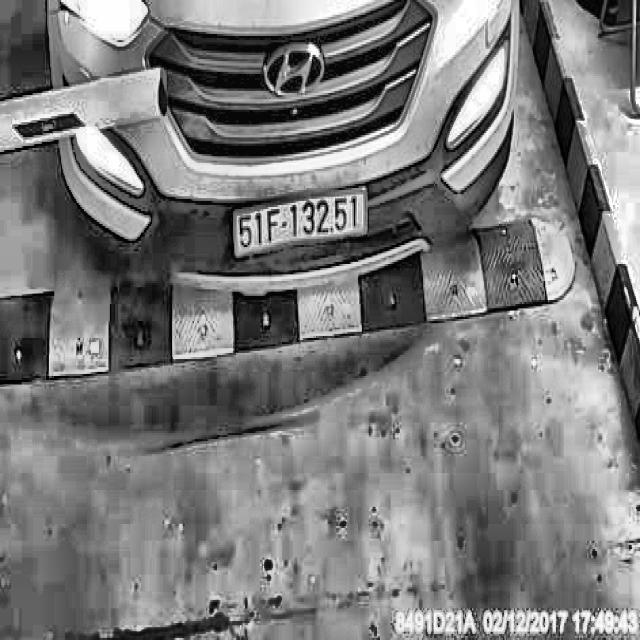plate: (232, 181, 372, 264)
